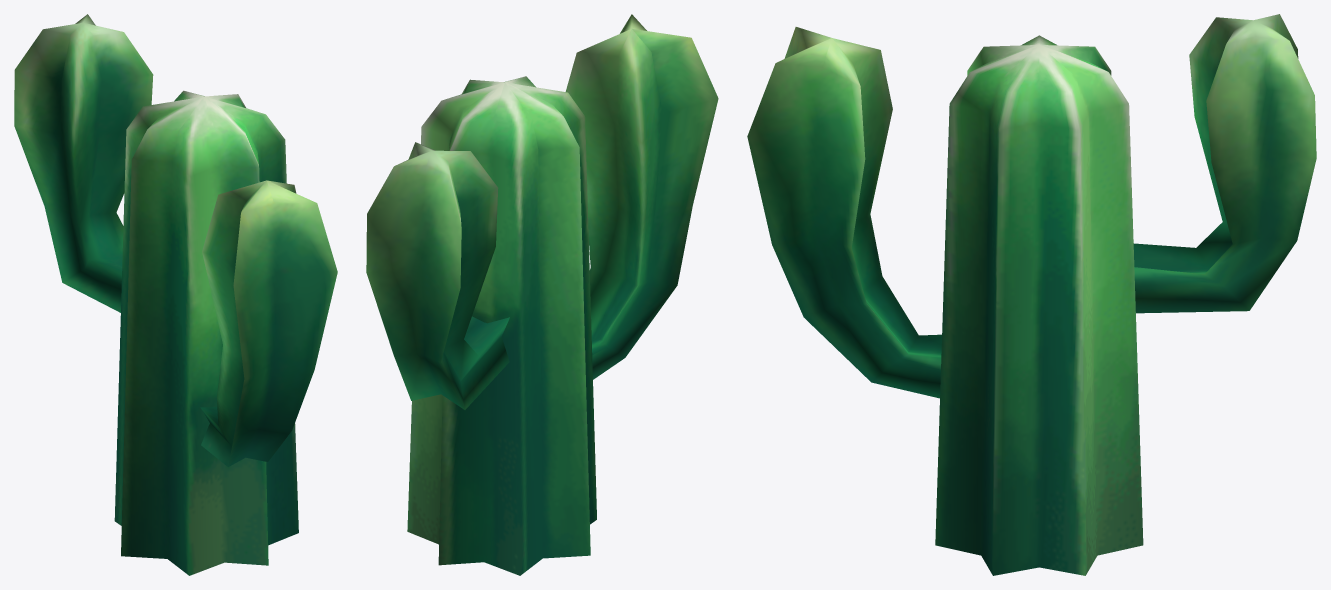
Rendered from cj_xianrenzhang7.fbx.
3 renders of one model, left to right at view 1: azimuth 30°, elevation 25°; view 2: azimuth 150°, elevation 25°; view 3: azimuth 270°, elevation 25°, orthographic. The views are drawn at different scales.
Parts seen in each view (by area): view 1: cj_xianrenzhang7; view 2: cj_xianrenzhang7; view 3: cj_xianrenzhang7.
Boxes of the visible parts, <box> form: cj_xianrenzhang7: <box>14,14,337,575</box>; cj_xianrenzhang7: <box>366,14,718,575</box>; cj_xianrenzhang7: <box>747,14,1316,575</box>.
Bounding box in the file's own units: 272 × 717 × 737.
